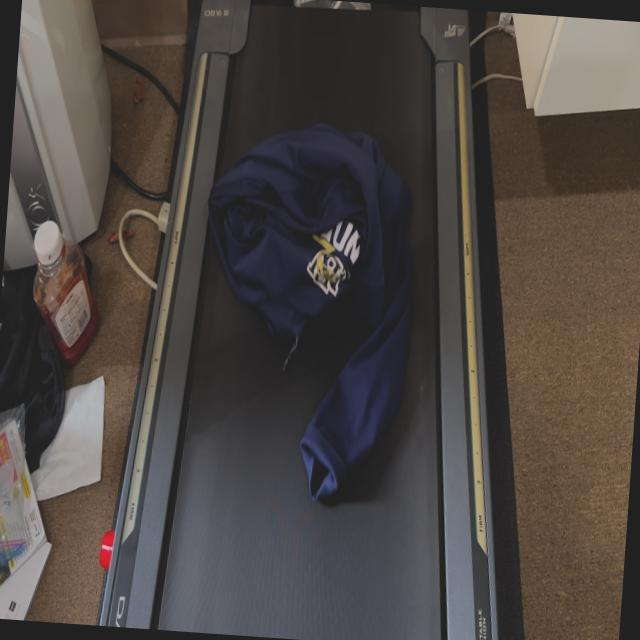Trash: (186, 124, 428, 512)
